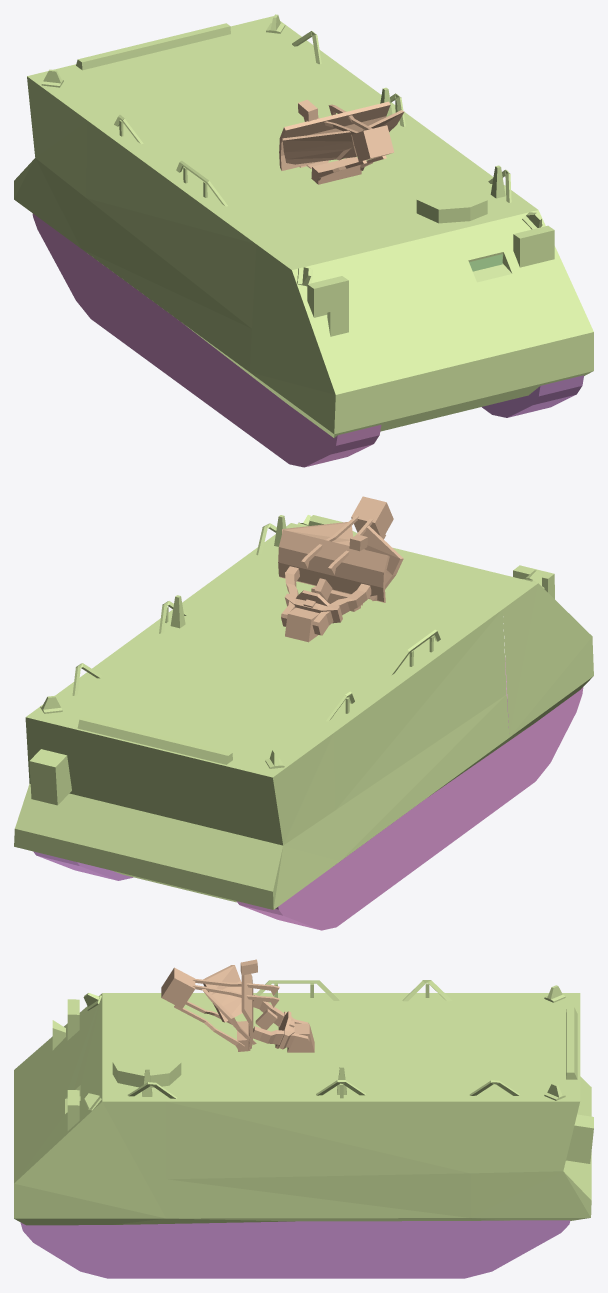
The model's file is land-tracked-leopard-spawn-spw-02--spw-03.glb.
3 renders of one model, top to bottom at view 1: azimuth 30°, elevation 25°; view 2: azimuth 150°, elevation 25°; view 3: azimuth 270°, elevation 25°, orthographic. The views are drawn at different scales.
Visible parts, largest first — view 1: CC_SPW, CC_SPW_03_Antenna, CC_SPW_03_Rotator_02, CC_SPW_03_Flap_02; view 2: CC_SPW, CC_SPW_03_Rotator_02, CC_SPW_03_Rotator_01, CC_SPW_03_Antenna, CC_SPW_03_Flap_02, CC_SPW_03_Base, CC_SPW_03_Flap_01; view 3: CC_SPW, CC_SPW_03_Antenna, CC_SPW_03_Rotator_01, CC_SPW_03_Rotator_02, CC_SPW_03_Flap_02.
Part boxes in pixels (x1,y1,x2,y2): CC_SPW: (14, 14, 593, 467); CC_SPW_03_Antenna: (303, 104, 394, 184); CC_SPW_03_Rotator_02: (279, 99, 390, 170); CC_SPW_03_Flap_02: (282, 130, 356, 164); CC_SPW: (14, 515, 593, 930); CC_SPW_03_Rotator_02: (278, 530, 389, 602); CC_SPW_03_Rotator_01: (281, 566, 371, 635); CC_SPW_03_Antenna: (301, 496, 393, 611); CC_SPW_03_Flap_02: (362, 525, 403, 600); CC_SPW_03_Base: (285, 607, 319, 642); CC_SPW_03_Flap_01: (282, 522, 352, 578); CC_SPW: (14, 980, 593, 1278); CC_SPW_03_Antenna: (161, 967, 279, 1051); CC_SPW_03_Rotator_01: (253, 995, 309, 1052); CC_SPW_03_Rotator_02: (240, 959, 277, 1049); CC_SPW_03_Flap_02: (203, 965, 242, 1022).
Size of the model in its own units: 3.49 by 3.57 by 7.47.
